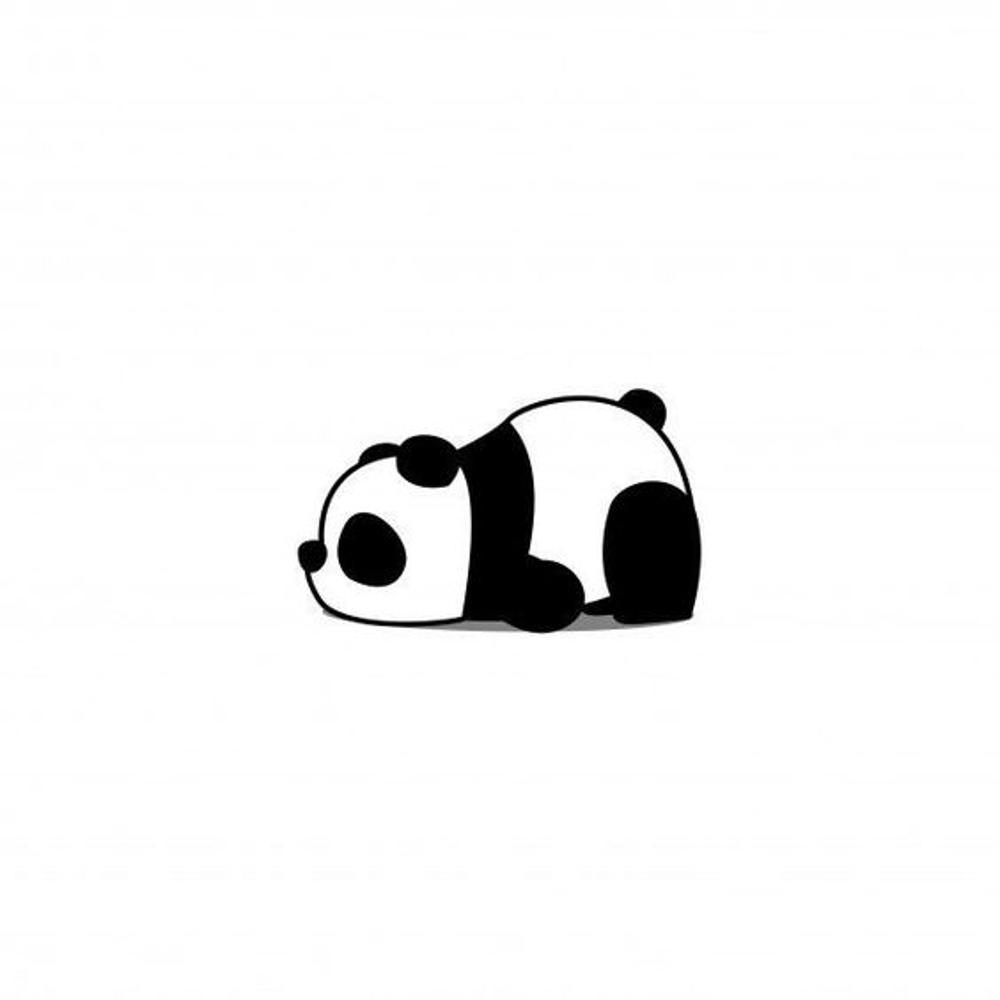panda: (290, 382, 727, 659)
